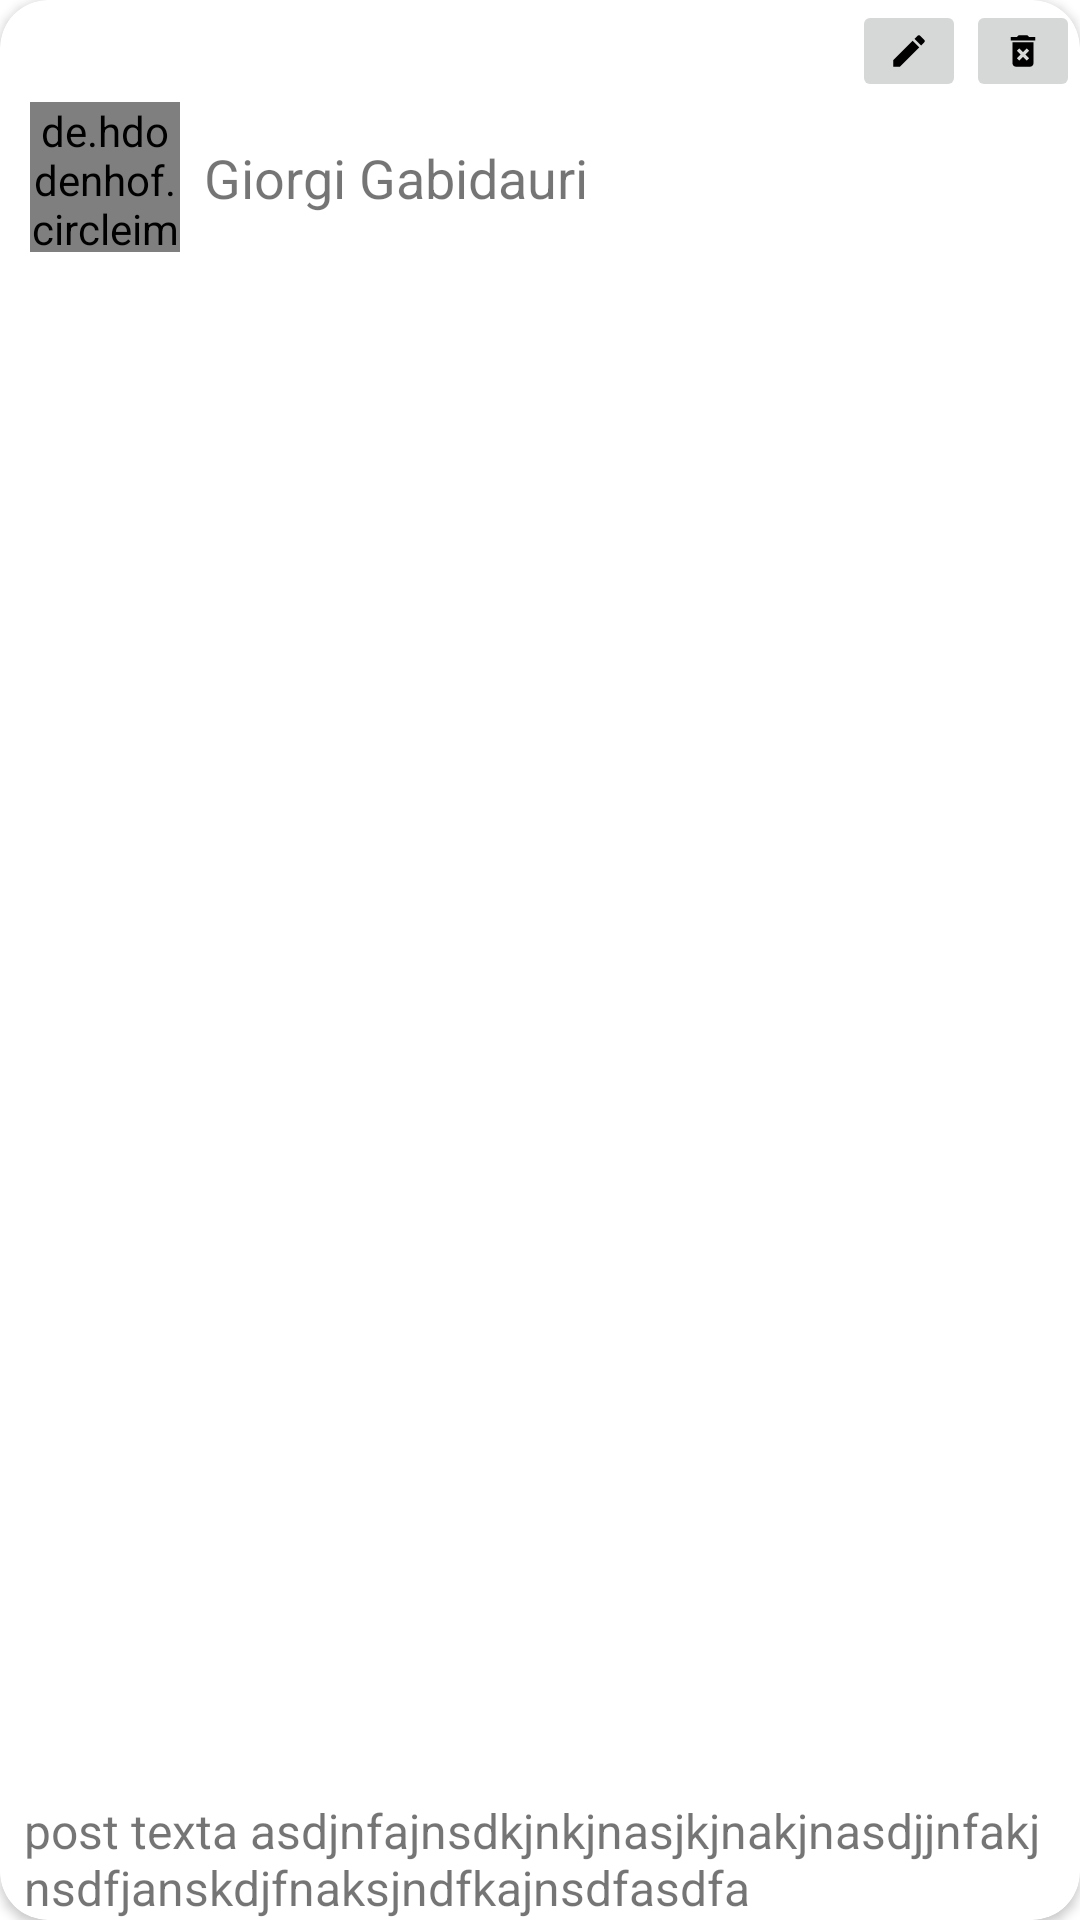

Screen size 1080px x 1920px. Icon name, then its box in pixels as bbox=(x1, y1, x2, y2):
delete: bbox=(978, 18, 1080, 84)
edit: bbox=(864, 18, 954, 84)
